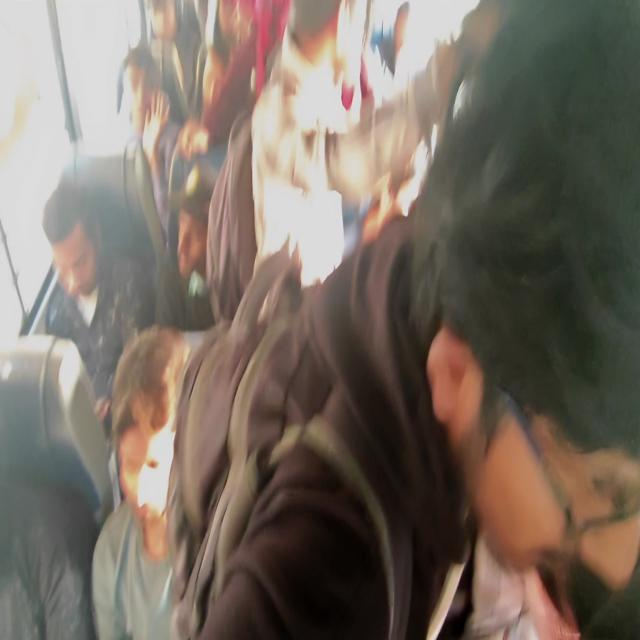person: (164, 0, 638, 638), (410, 1, 639, 636), (89, 322, 193, 638), (41, 161, 156, 437), (118, 41, 180, 246), (156, 157, 220, 331)
